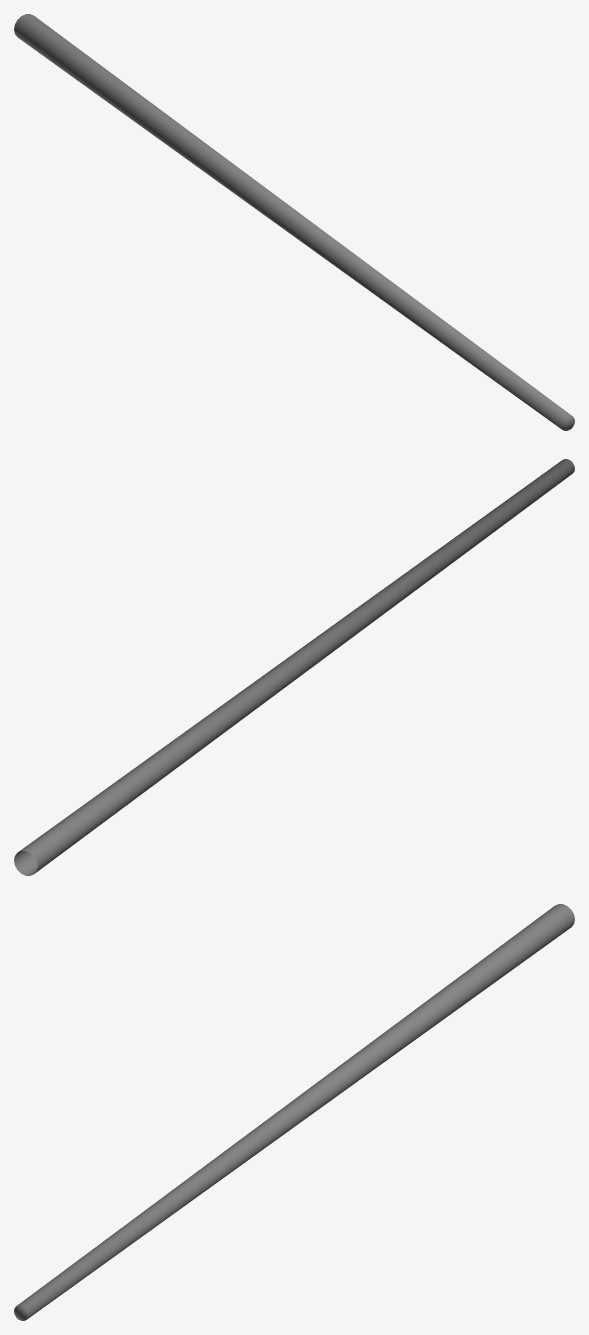
The model's file is Jana_4800.obj.
3 renders of one model, top to bottom at view 1: azimuth 30°, elevation 25°; view 2: azimuth 150°, elevation 25°; view 3: azimuth 330°, elevation 25°, orthographic.
Visible parts, largest first — view 1: Mast_4,8m_grau; view 2: Mast_4,8m_grau; view 3: Mast_4,8m_grau.
Boxes of the visible parts, left/top/right/bottom form: Mast_4,8m_grau: left=14, top=14, right=574, bottom=430; Mast_4,8m_grau: left=14, top=459, right=574, bottom=875; Mast_4,8m_grau: left=14, top=904, right=574, bottom=1320.
Size of the model in its own units: 0.121 by 0.121 by 4.8.
